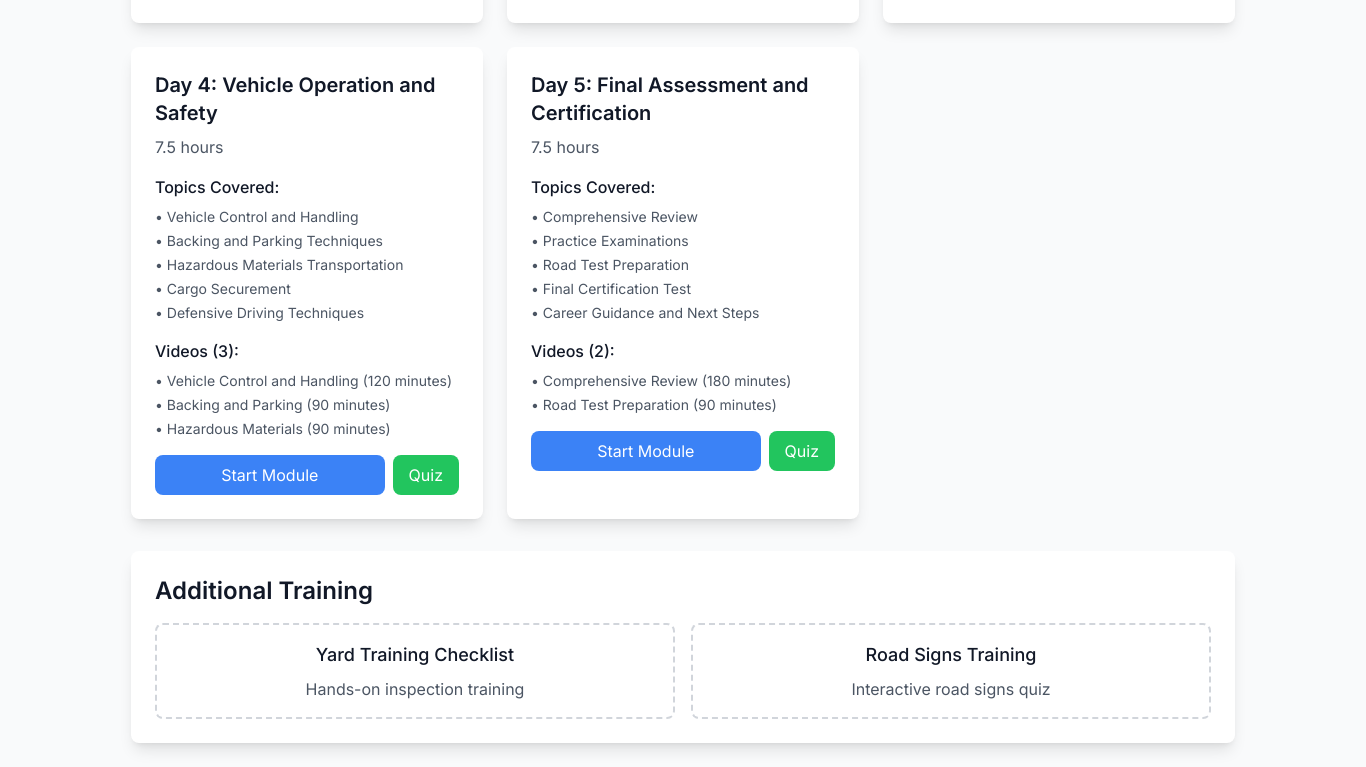
Test: CDLTrainingModule › displays yard training categories
(page scrolled)
Click the button "Yard Training Checklist Hands-on inspection training".
click(415, 654)  # box [155,623,675,719]
(page scrolled)
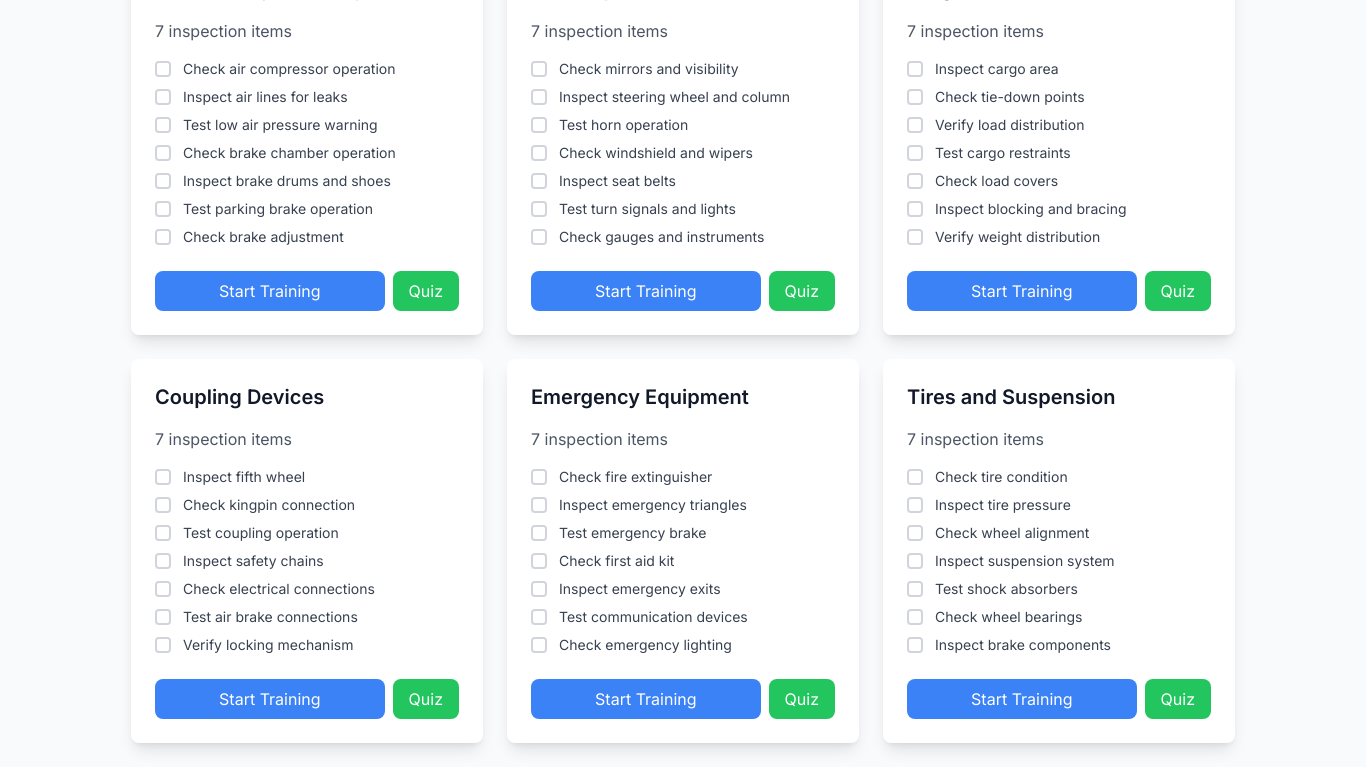
Expected: the heading "Coupling Devices" is shown, [155,385,324,409]
Expected: the heading "Emergency Equipment" is shown, [531,385,749,409]
Expected: the heading "Tires and Suspension" is shown, [907,385,1116,409]
